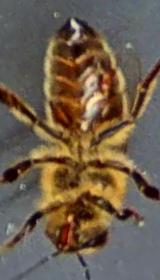varroa_mite: (43, 94, 77, 130), (96, 57, 116, 97)
